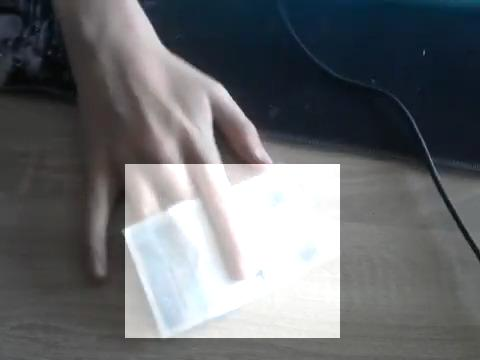20leva: (125, 164, 340, 338)
